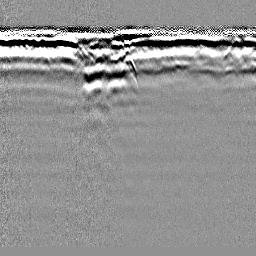cavity: (117, 55, 138, 82)
